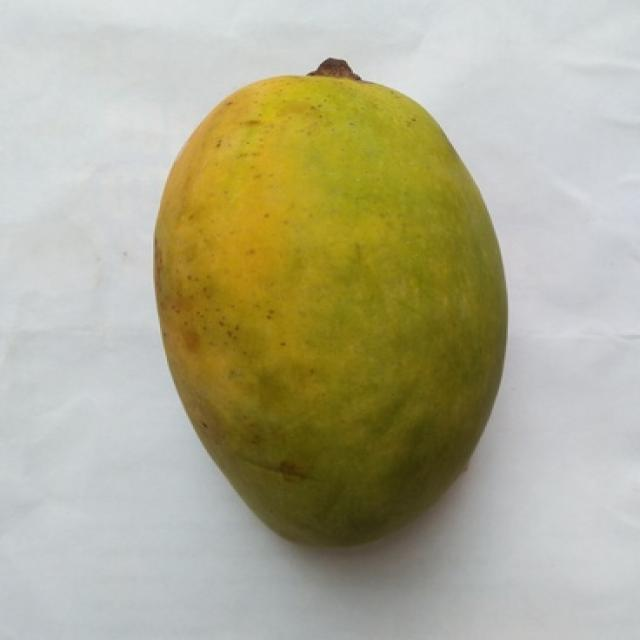Mango: (155, 63, 506, 544)
